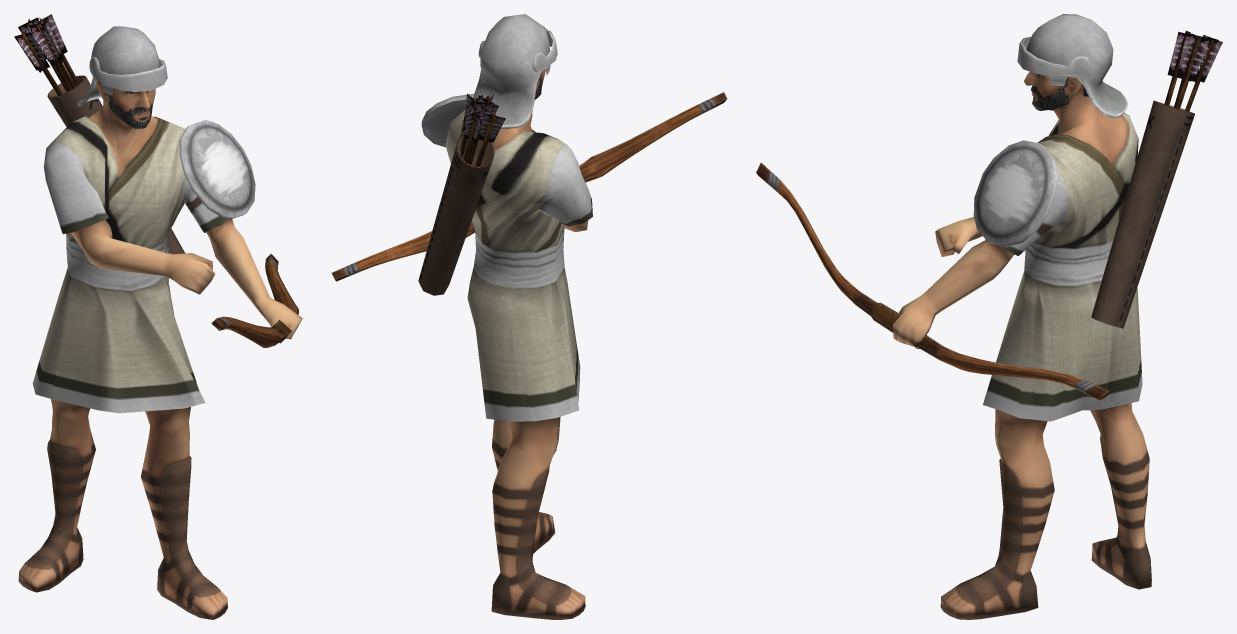
File: 122-arcus.glb
3 views of the same model, side by side, from view 1: azimuth 30°, elevation 25°; view 2: azimuth 150°, elevation 25°; view 3: azimuth 270°, elevation 25° (orthographic). The views are drawn at different scales.
Bounding box in the file's own units: 1 × 2.12 × 1.55.
4 materials, 4 textured.
